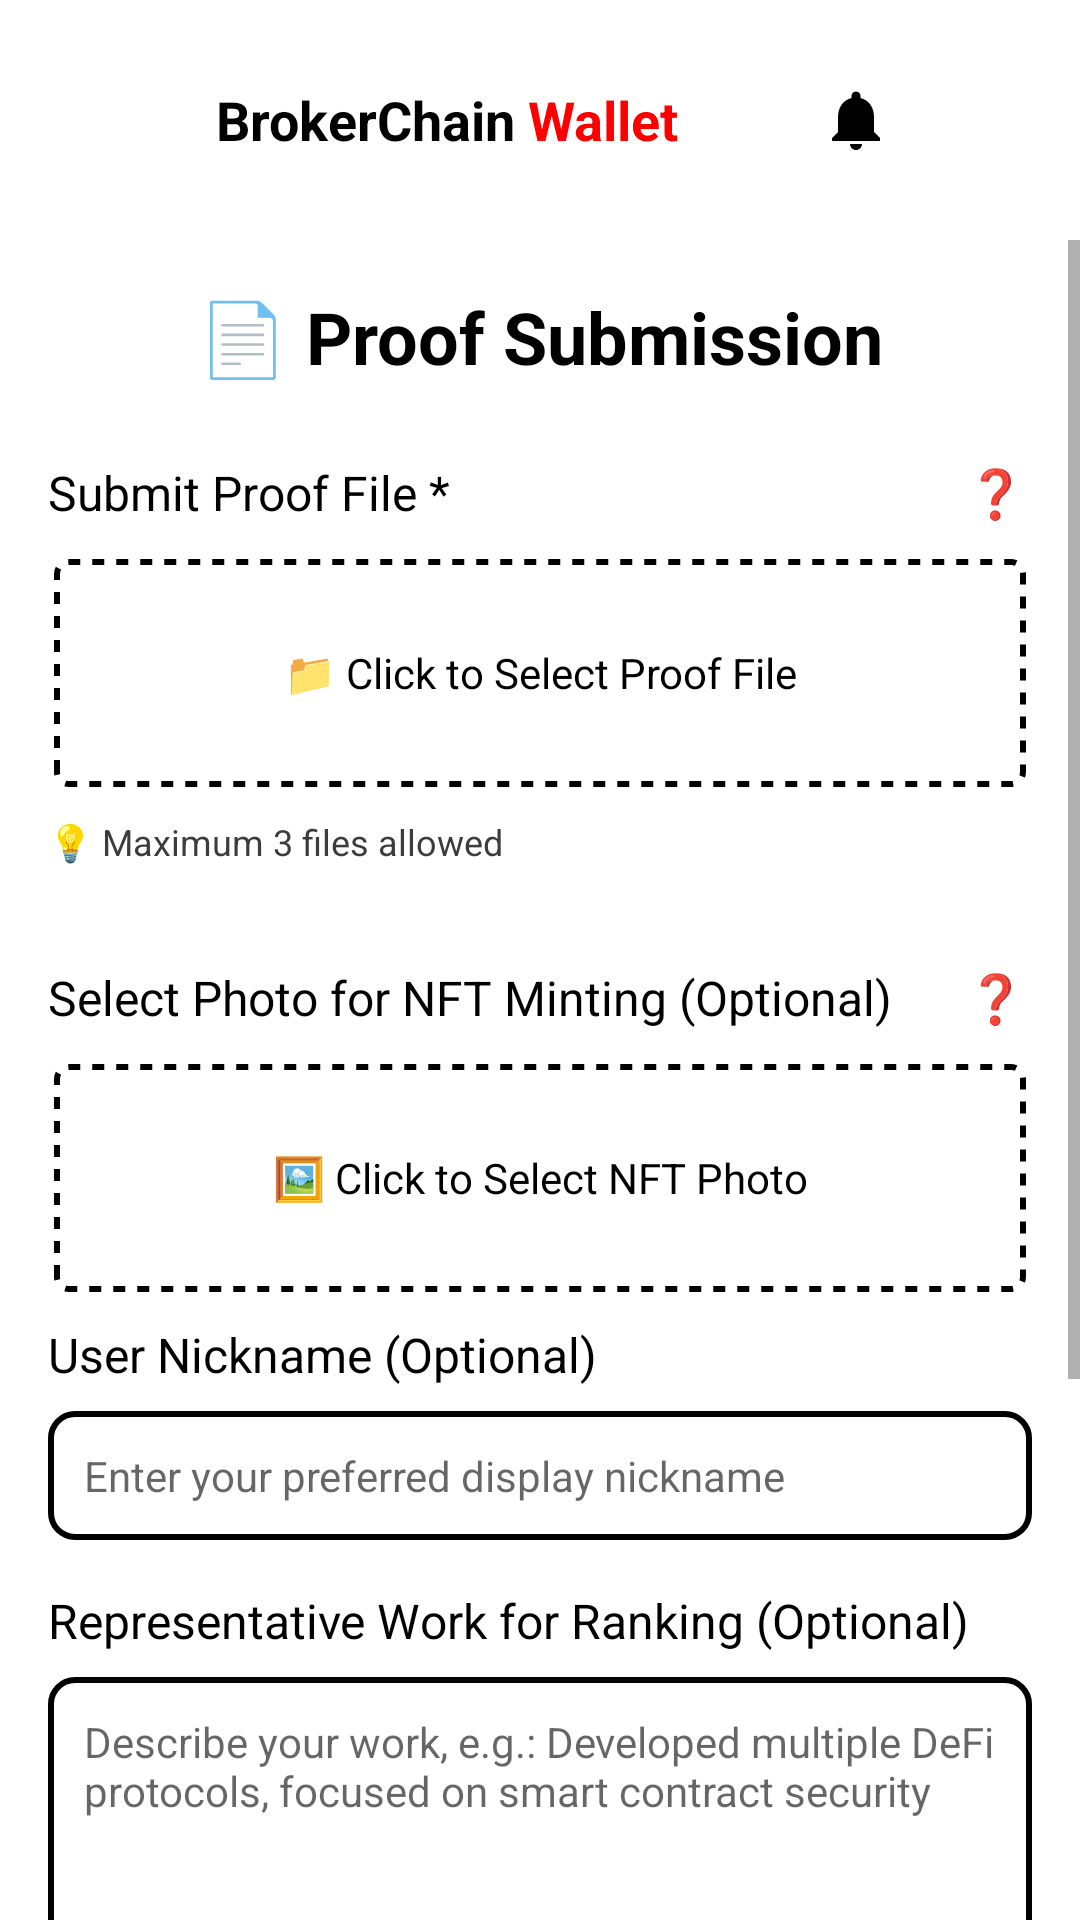

Icons on this 1080x1920 Android screen, each with the point to tap as (x,y):
Notifications: (856,120)
